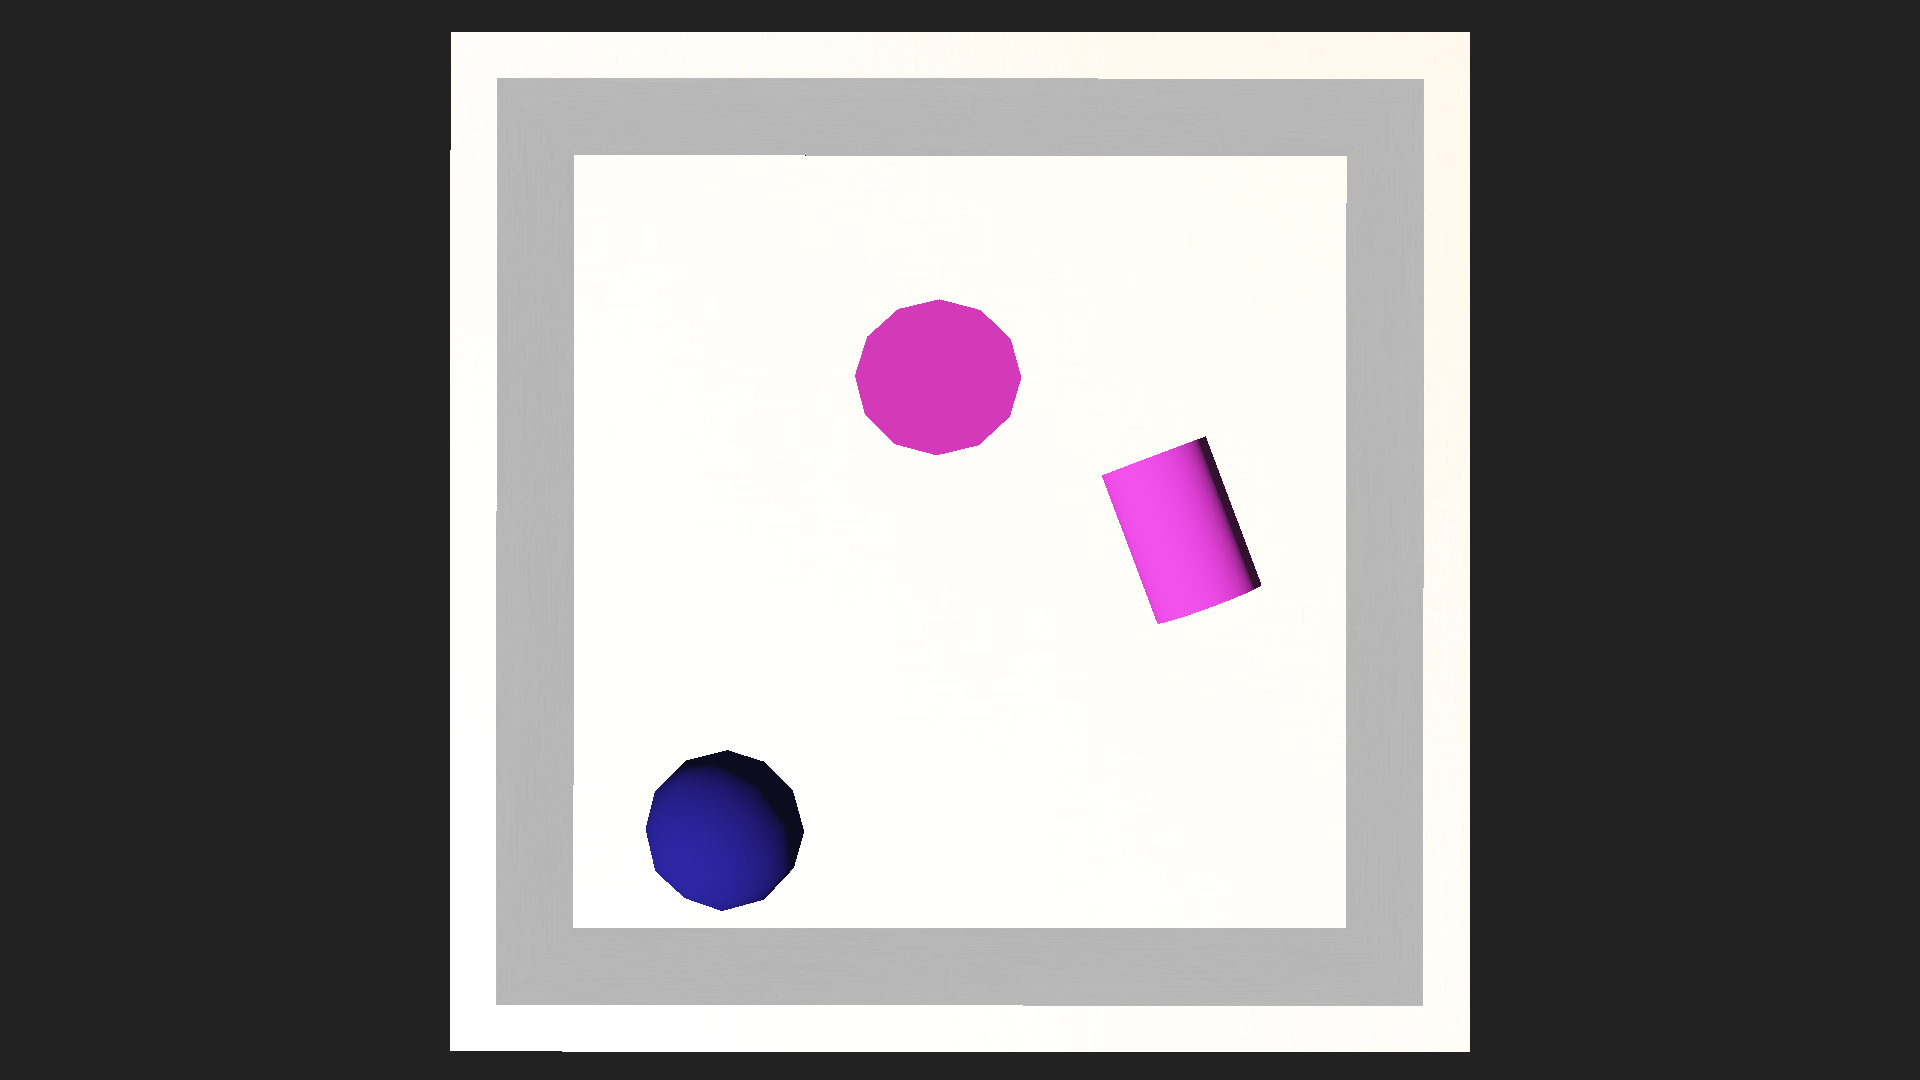cone: (1097, 433, 1267, 625)
cylinder: (860, 302, 1014, 501)
sphere: (644, 749, 804, 909)
